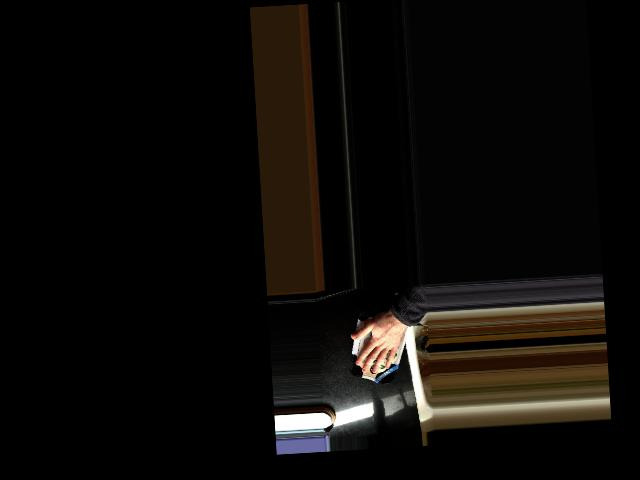cheese: (344, 307, 414, 387)
